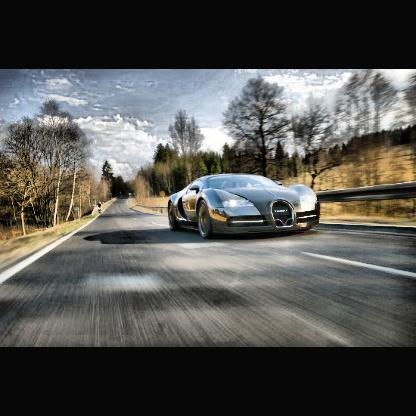Bugatti Veyron 16-4 Coupe 2009: (168, 171, 322, 239)
